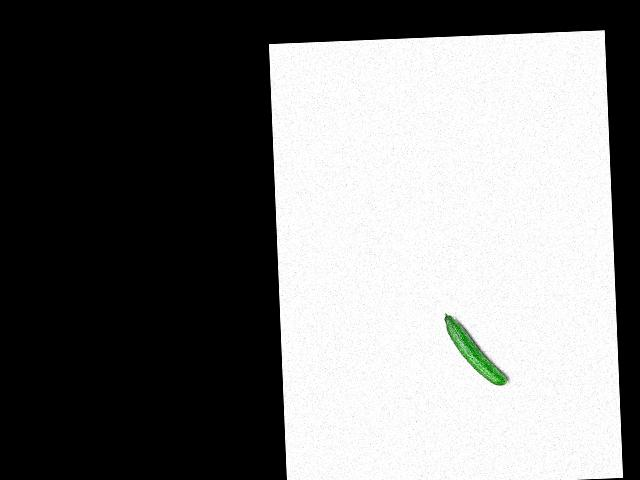cucumber: (444, 309, 508, 387)
